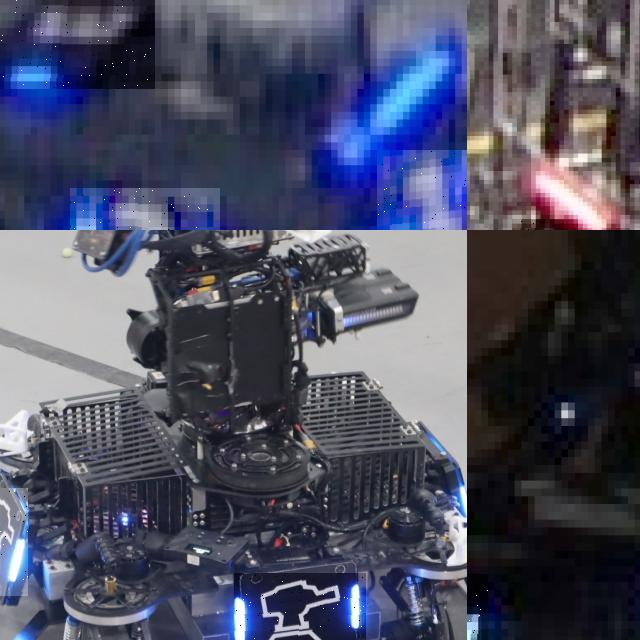B3: (0, 0, 154, 89), (377, 149, 467, 230), (70, 188, 220, 230)
Bs: (234, 573, 365, 640), (0, 488, 28, 595)
